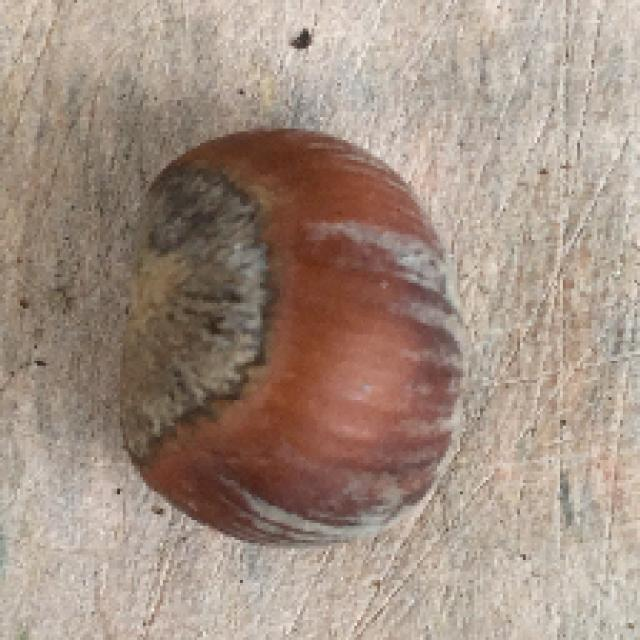damagedHazelnut: (116, 111, 474, 544)
